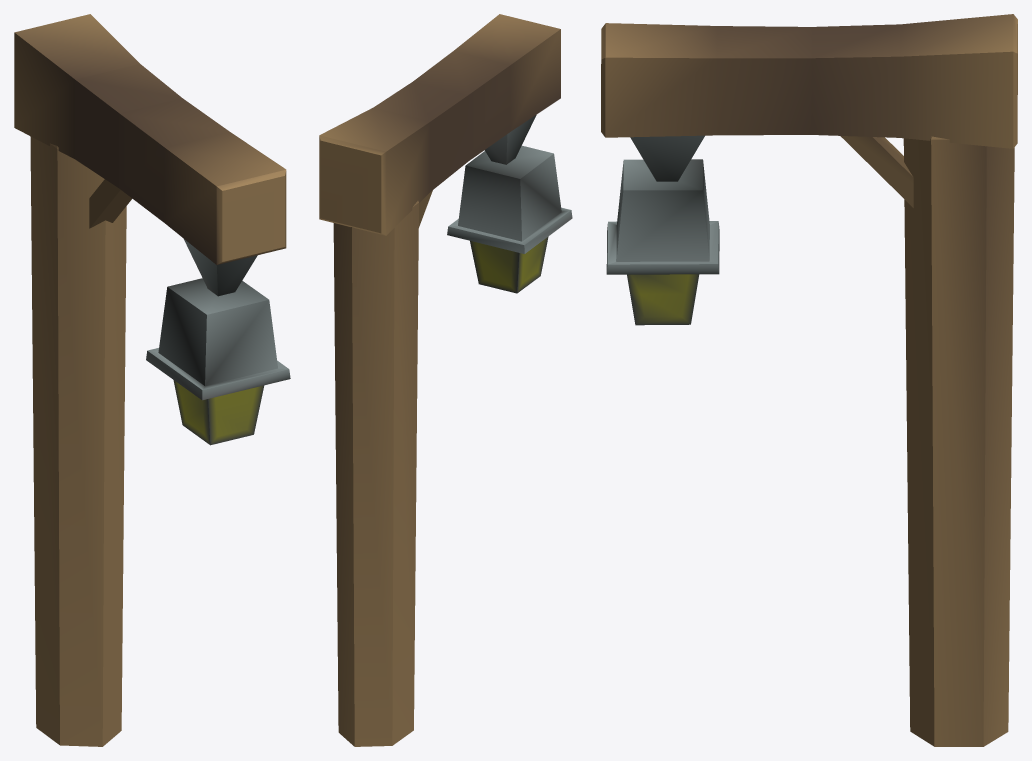
The model's file is LightingPoles02.fbx.
3 views of the same model, side by side, from view 1: azimuth 30°, elevation 25°; view 2: azimuth 150°, elevation 25°; view 3: azimuth 270°, elevation 25° (orthographic). The views are drawn at different scales.
Visible parts, largest first — view 1: LightingPoles02_LOD0; view 2: LightingPoles02_LOD0; view 3: LightingPoles02_LOD0.
Part boxes in pixels (x1,y1,x2,y2): LightingPoles02_LOD0: (14, 14, 290, 746); LightingPoles02_LOD0: (319, 14, 572, 746); LightingPoles02_LOD0: (601, 14, 1017, 746).
Size of what is drawn, in the model's own units: 30.78 by 226 by 122.
